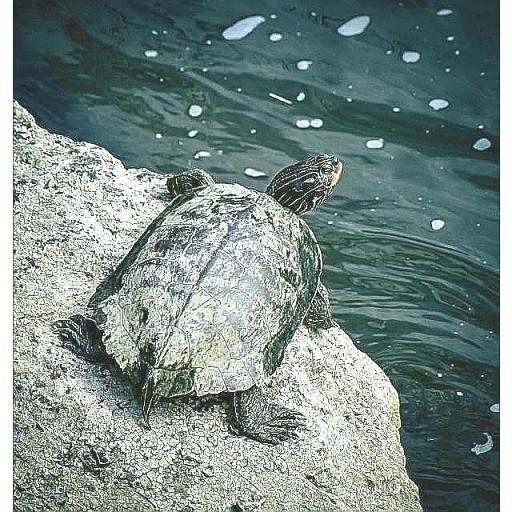turtle: (50, 149, 359, 442)
